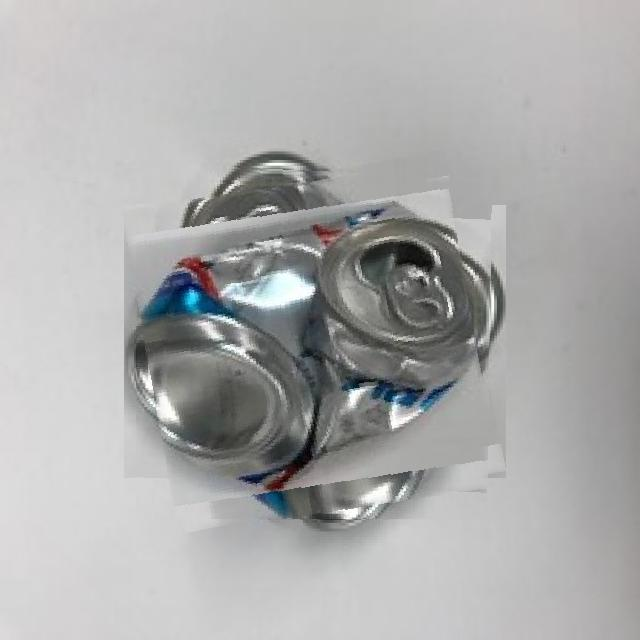recyclable: (136, 163, 492, 520)
